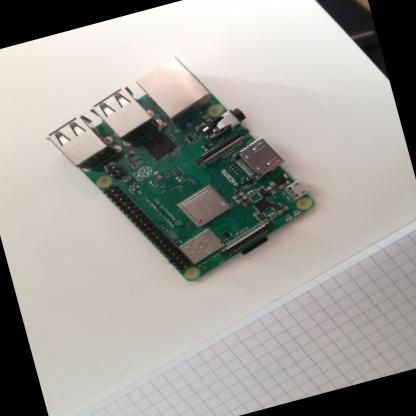Raspberry_Pi_3: (33, 27, 331, 313)
